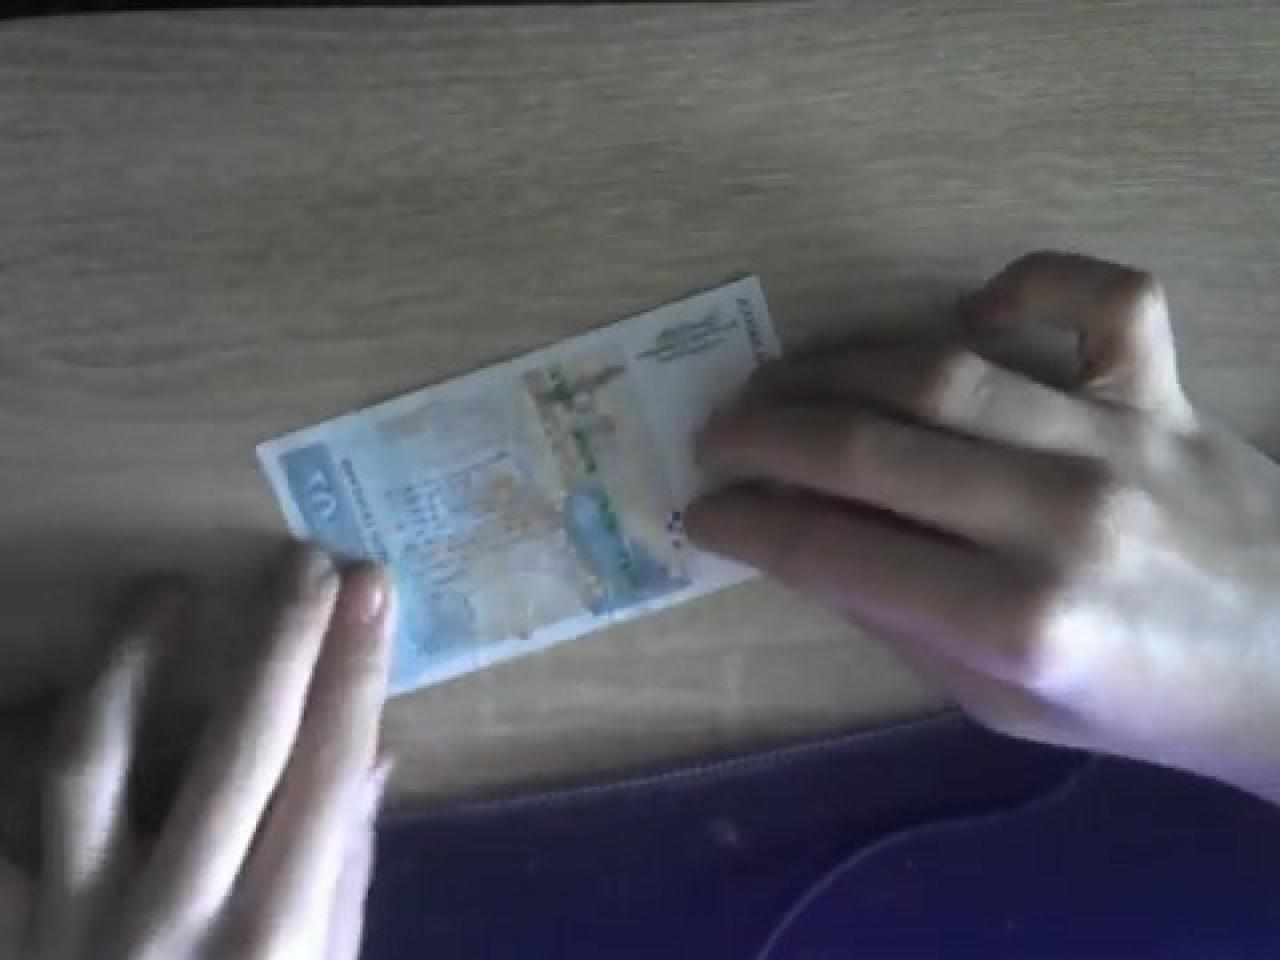20leva: (256, 274, 781, 694)
